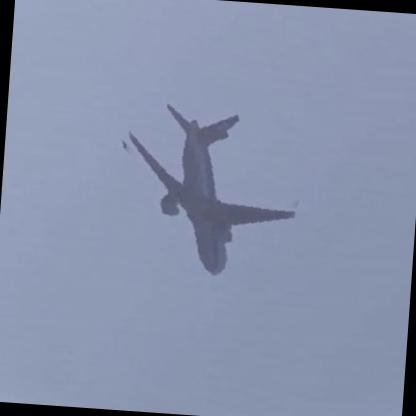plane: (108, 92, 310, 287)
